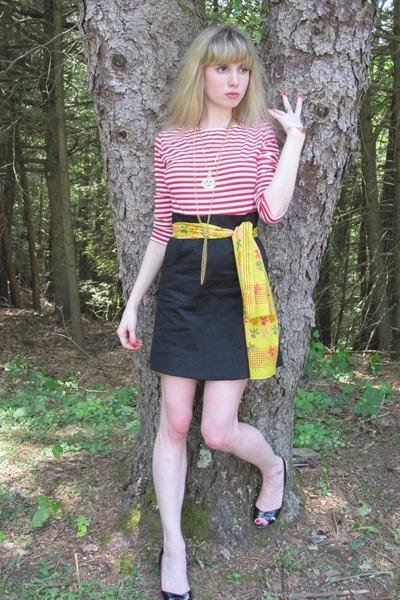shirt: (145, 120, 281, 238)
shoe: (150, 489, 276, 599)
skirt: (147, 208, 258, 390)
